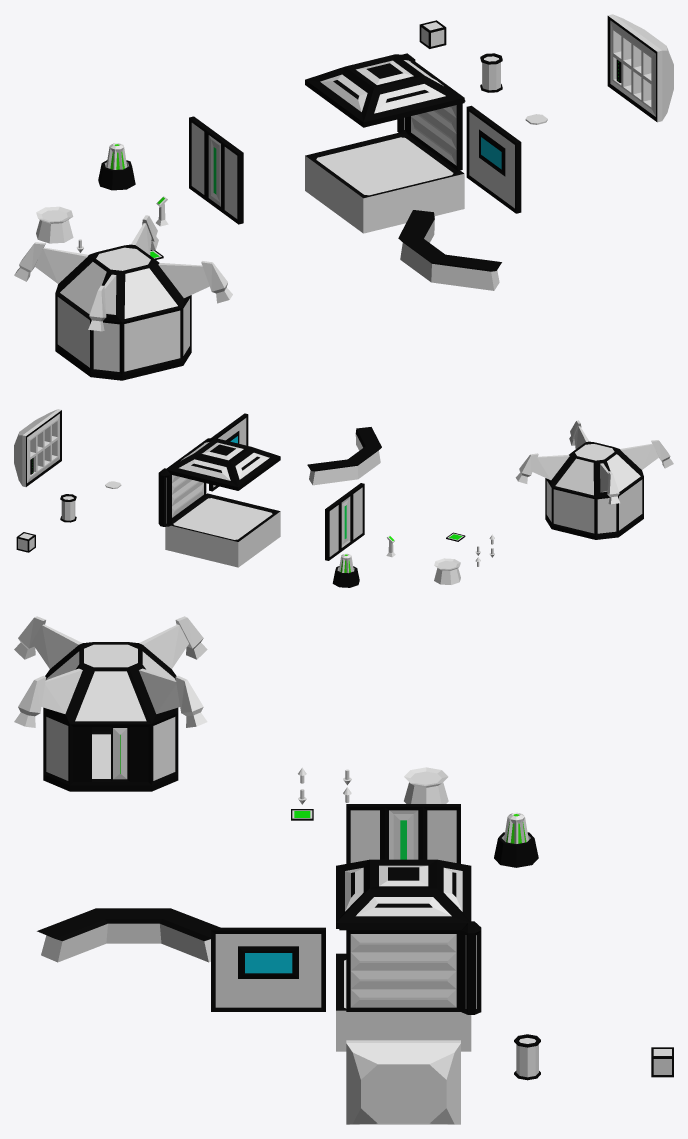
The model's file is assets.fbx.
3 views of the same model, one above another, from view 1: azimuth 30°, elevation 25°; view 2: azimuth 150°, elevation 25°; view 3: azimuth 270°, elevation 25° (orthographic). The views are drawn at different scales.
Visible parts, largest first — view 1: Lander, Floor, Ceiling, WallAPU, WallWindow, Desk, WallDoor, WallSolid, Generator, Table, Door, Barrel (+1 smaller); view 2: Lander, Floor, Ceiling, WallAPU, Desk, WallDoor, WallSolid, WallWindow, Pillar, Generator, Table, Door (+2 smaller); view 3: Lander, WallWindow, WallAPU, WallSolid, Ceiling, Desk, WallDoor, Floor, Pillar, Generator, Door, Table (+3 smaller).
Part boxes in pixels (x1,y1,x2,y2): Lander: (14, 215, 232, 380); Floor: (305, 133, 464, 233); Ceiling: (305, 54, 464, 127); WallAPU: (607, 14, 673, 122); WallWindow: (466, 105, 521, 213); Desk: (398, 210, 501, 290); WallDoor: (189, 116, 243, 224); WallSolid: (408, 103, 462, 170); Generator: (98, 143, 135, 190); Table: (36, 206, 73, 243); Door: (208, 135, 220, 206); Barrel: (480, 53, 502, 92); Lander: (515, 420, 673, 539); Floor: (165, 493, 280, 567); Ceiling: (165, 438, 280, 490); WallAPU: (14, 409, 61, 486); Desk: (307, 427, 381, 485); WallDoor: (325, 483, 364, 560); WallSolid: (172, 475, 206, 520); WallWindow: (209, 413, 248, 491); Pillar: (158, 473, 171, 526); Generator: (332, 553, 359, 587); Table: (434, 558, 460, 584); Door: (341, 496, 350, 547); Lander: (14, 616, 207, 791); WallWindow: (211, 927, 325, 1011); WallAPU: (346, 1040, 460, 1124); WallSolid: (346, 930, 460, 1011); Ceiling: (336, 859, 471, 928); Desk: (37, 908, 220, 962); WallDoor: (346, 804, 460, 863); Floor: (336, 953, 471, 1051); Pillar: (461, 930, 481, 1014); Generator: (494, 812, 538, 867); Door: (389, 810, 418, 859); Table: (404, 767, 448, 803).
Bounding box in the file's own units: 29.3 × 43.35 × 7.62.
